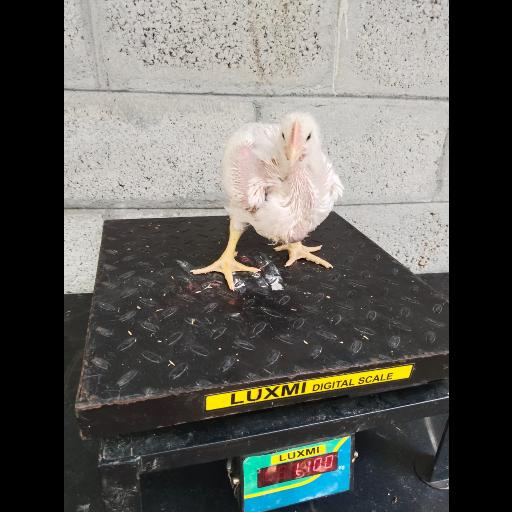chick: (187, 113, 341, 289)
